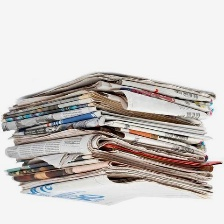news_paper: (0, 69, 224, 213)
